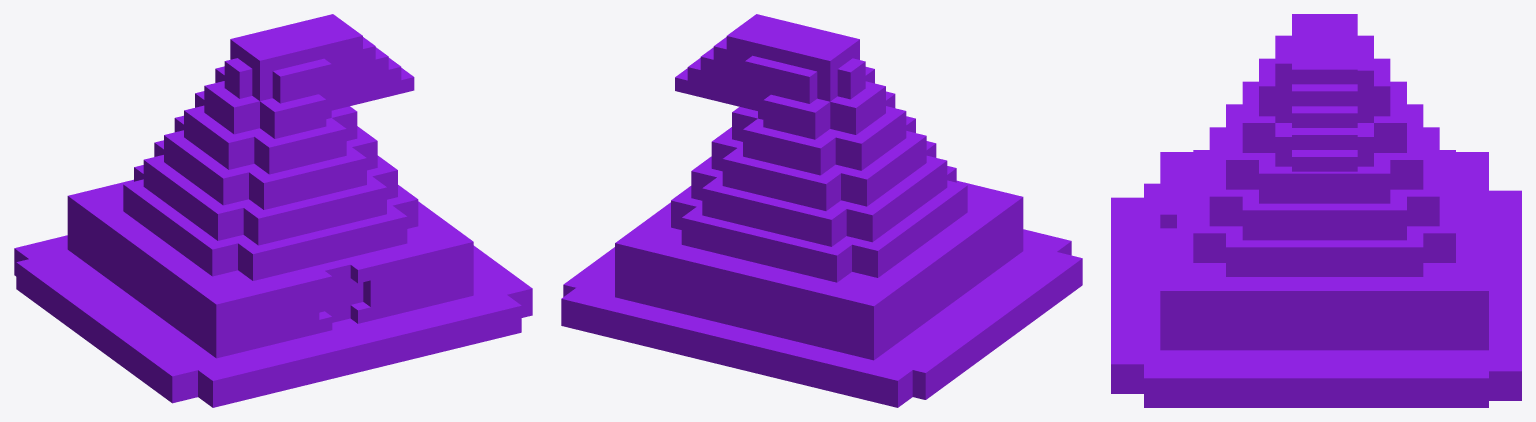
The picture shows the model from 3 angles, left to right: view 1: azimuth 30°, elevation 25°; view 2: azimuth 150°, elevation 25°; view 3: azimuth 270°, elevation 25°; orthographic projection. The views are drawn at different scales.
Parts seen in each view (by area): view 1: 61; view 2: 61; view 3: 61.
Boxes of the visible parts, x1=… form: 61: x1=14, y1=14, x2=532, y2=407; 61: x1=561, y1=14, x2=1082, y2=407; 61: x1=1111, y1=14, x2=1521, y2=407.
Size of the model in its own units: 280 by 190 by 250.
Materials: 1 (1 with a texture image).
